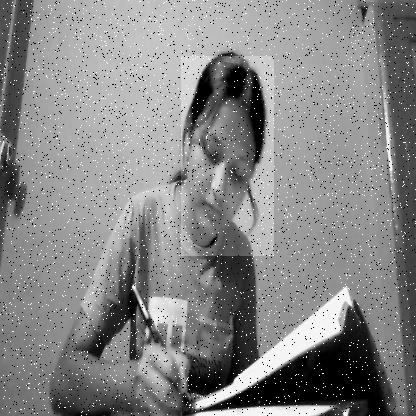Distracted: (181, 56, 274, 256)
